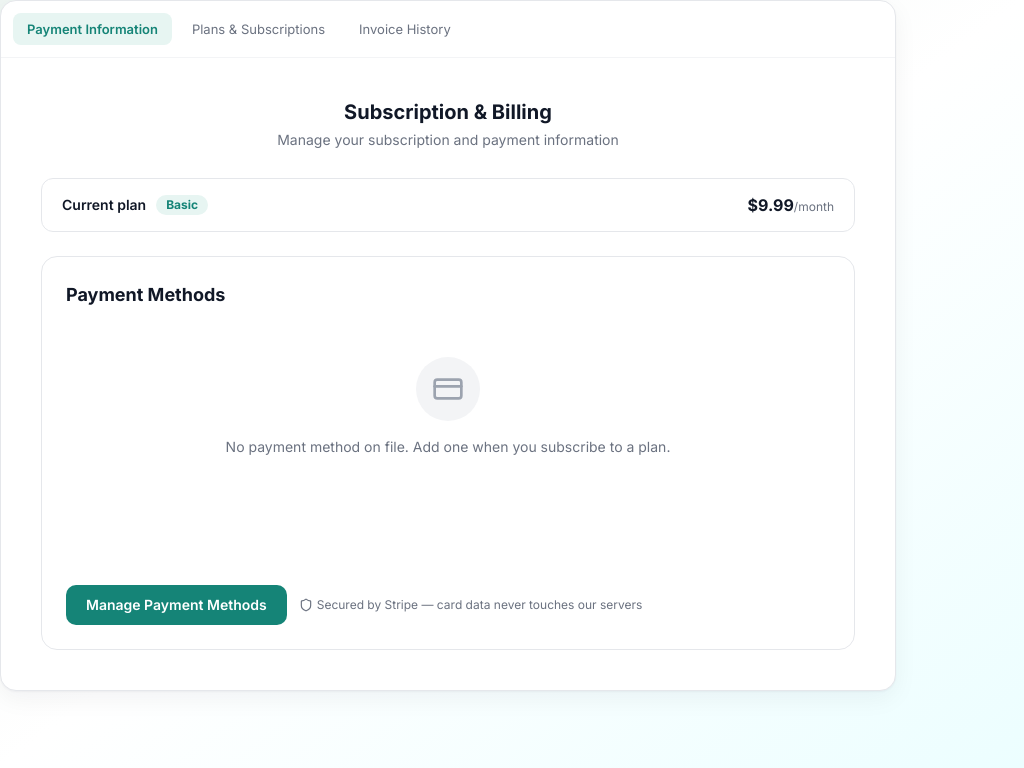
Test: Billing Page Integration › plan change confirmation › does not touch checkout until the user confirms
The image size is (1024, 768).
Click the text "Plans & Subscriptions" at {"x": 258, "y": 29}, box 192,21 -> 325,37
(page scrolled)
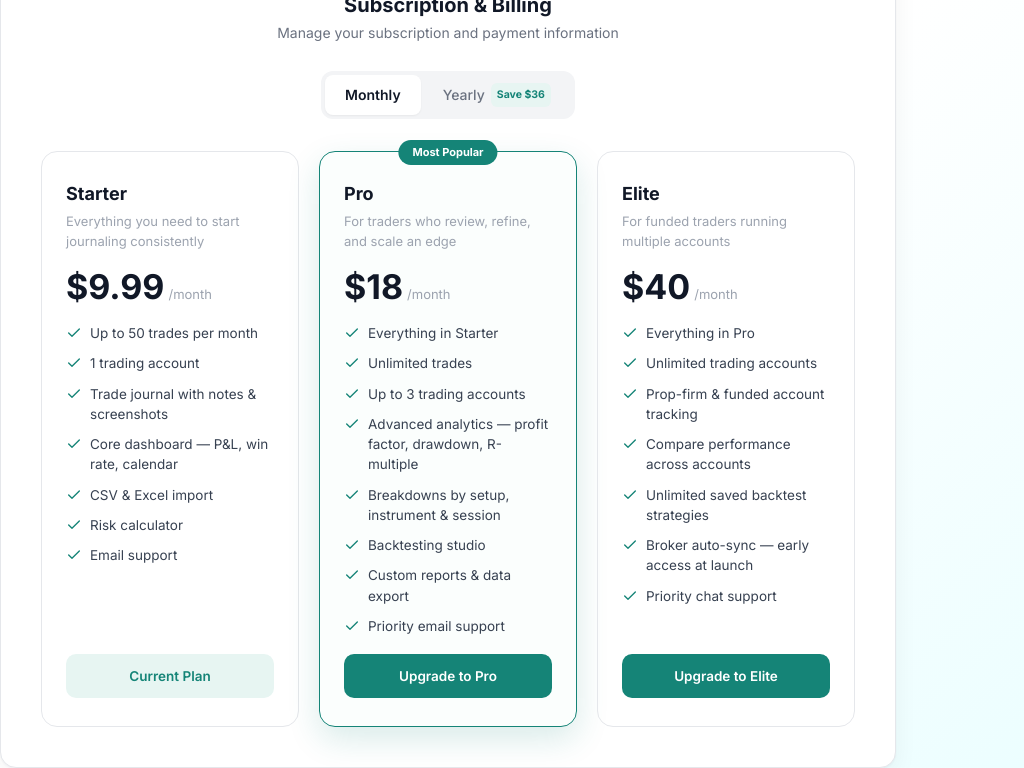
Click the button "Upgrade to Pro" at {"x": 448, "y": 676}, box 344,654 -> 552,698
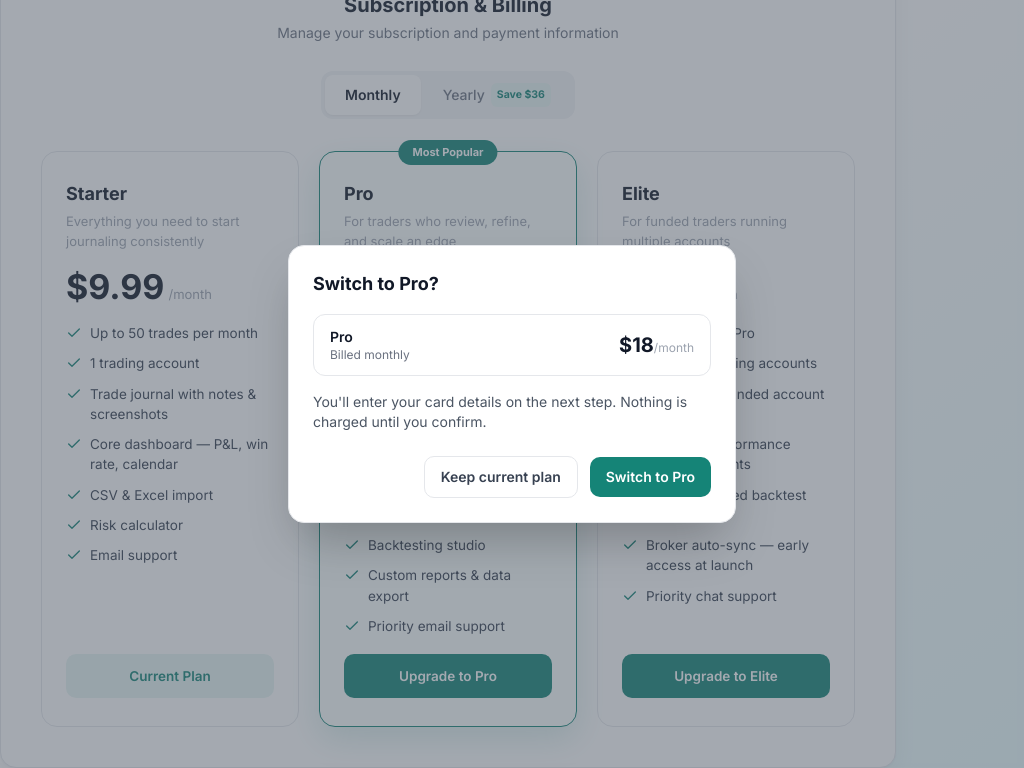
Expected: the dialog with test id "billing-plan-confirm-modal" is shown
